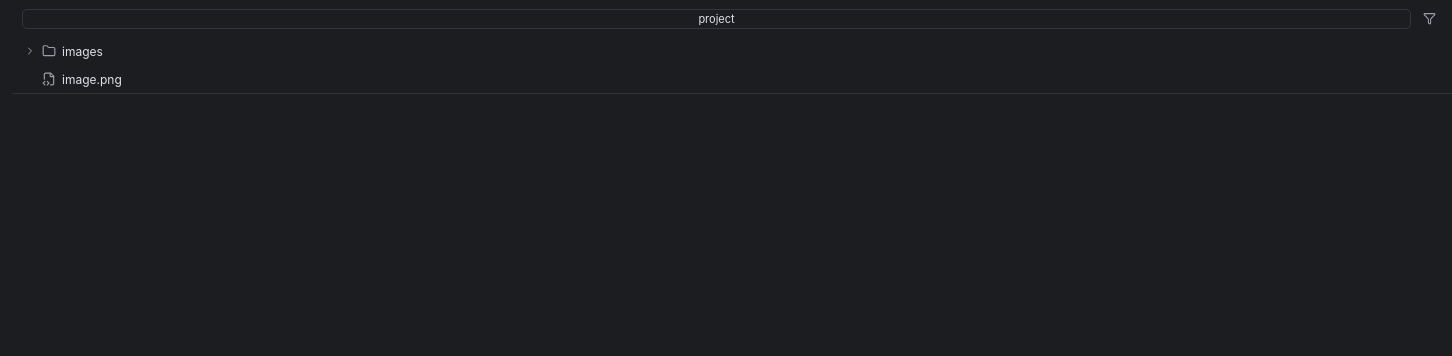
copies exact paths, distinguishes folder actions, and closes on outside pointer
Right-click the button with test id "file-images": x=82, y=51 [12,37,1434,65]
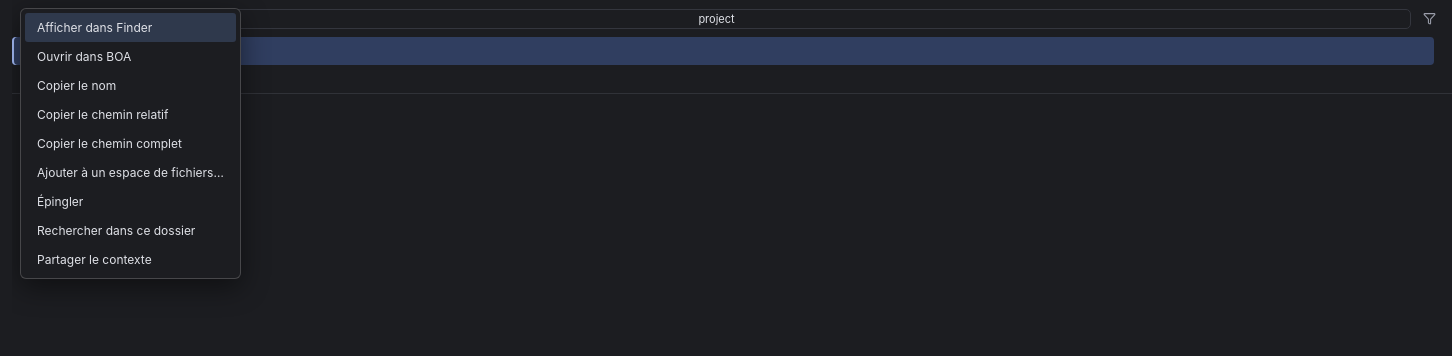
Now the menu item "Rechercher dans ce dossier" is shown, box [25,216,236,245]
Click the menu item "Copier le chemin complet": x=130, y=144 [25,129,236,158]
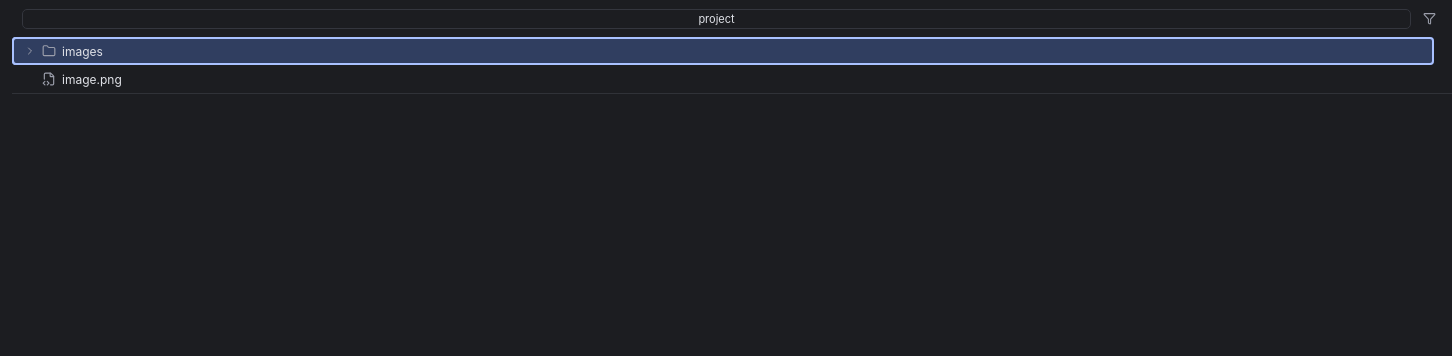
Press ContextMenu in the button with test id "file-images", box [12,37,1434,65]
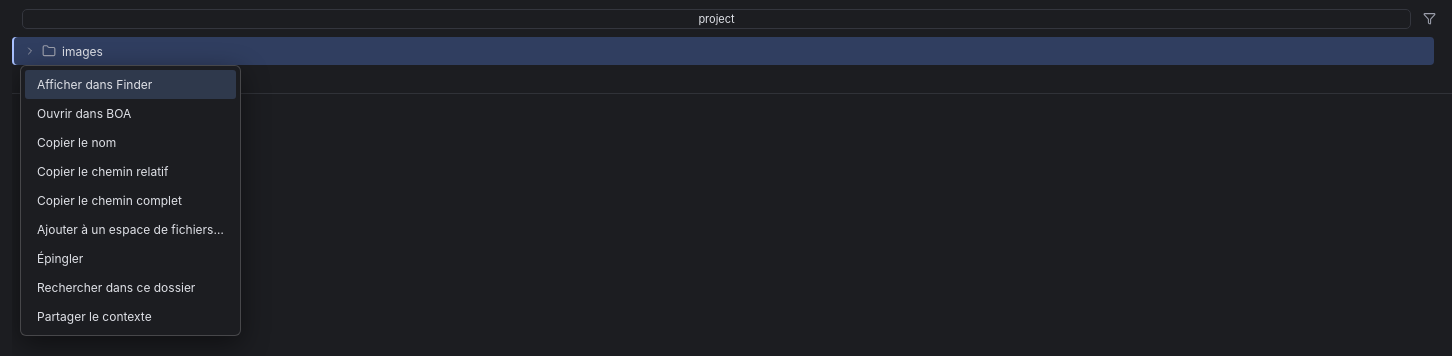
Press the mouse on the element that starts with "project": x=732, y=47 [12,0,1451,94]
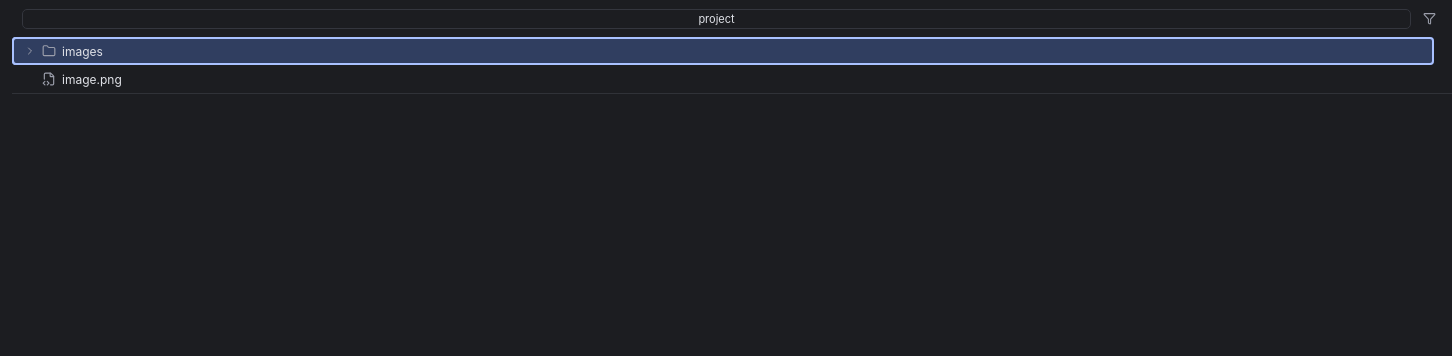
Now the menu is gone
